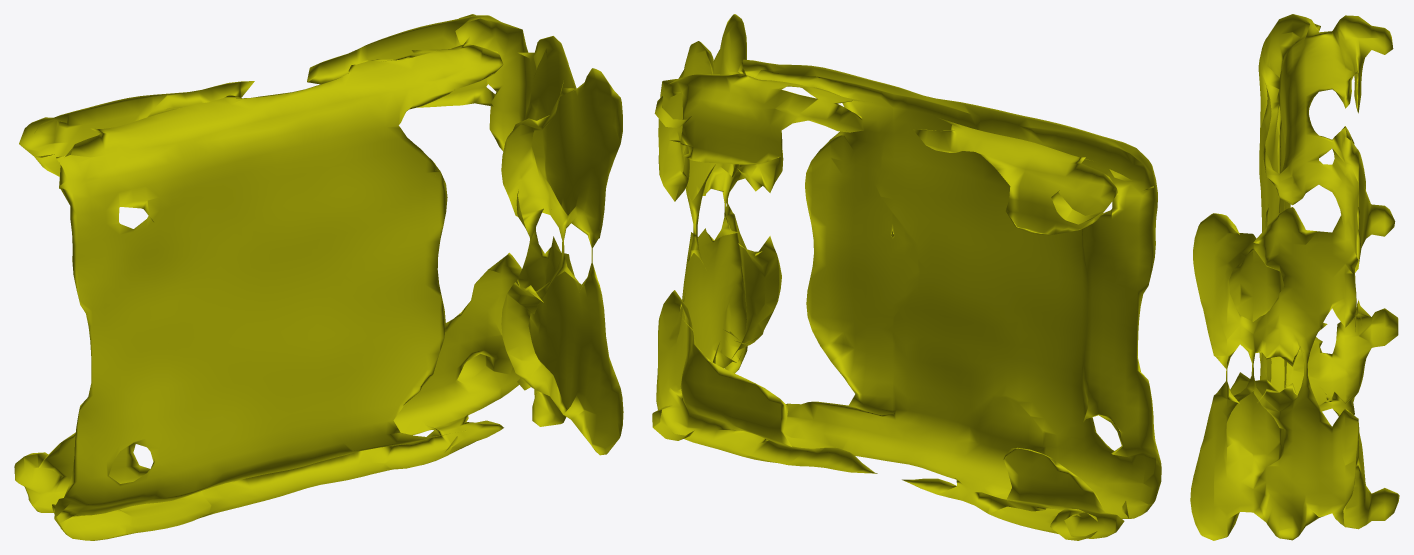
3 views of the same model, side by side, from view 1: azimuth 30°, elevation 25°; view 2: azimuth 150°, elevation 25°; view 3: azimuth 270°, elevation 25° (orthographic). The views are drawn at different scales.
Visible parts, largest first — view 1: world; view 2: world; view 3: world.
Boxes of the visible parts, x1,y1,x2,y2 form: world: (14, 14, 623, 540); world: (652, 14, 1161, 540); world: (1190, 14, 1399, 540).
Bounding box in the file's own units: 38.33 × 29.42 × 15.91.
